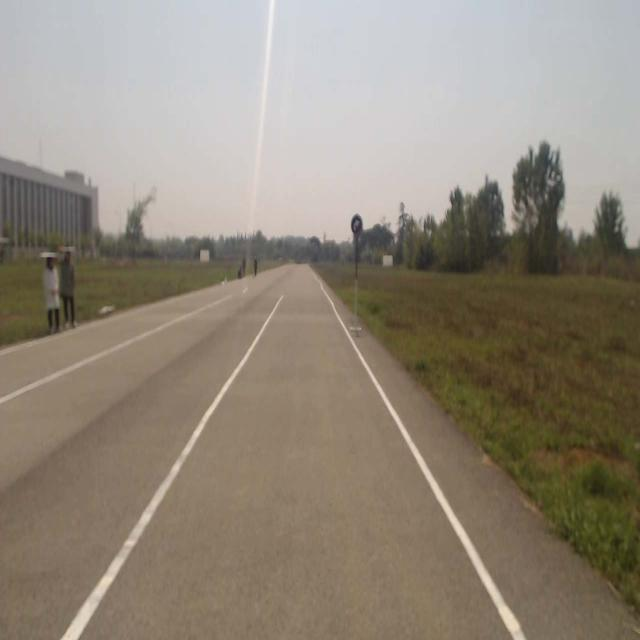sag: (350, 214, 363, 235)
